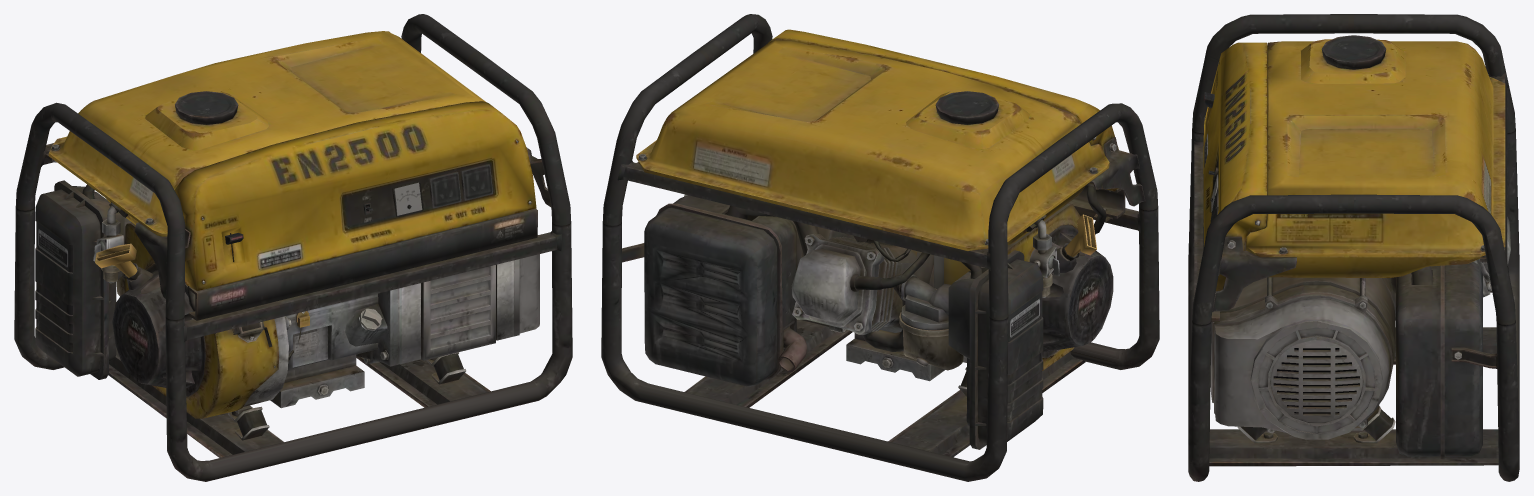
File: portable_generator.glb
3 renders of one model, left to right at view 1: azimuth 30°, elevation 25°; view 2: azimuth 150°, elevation 25°; view 3: azimuth 270°, elevation 25°, orthographic.
Visible parts, largest first — view 1: portable_generator; view 2: portable_generator; view 3: portable_generator.
Part boxes in pixels (<box>): portable_generator: <box>14,14,572,481</box>; portable_generator: <box>601,14,1159,481</box>; portable_generator: <box>1188,14,1519,481</box>.
Size of the model in its own units: 0.8169 by 0.5752 by 0.564.
Materials: 2 (2 with a texture image).
